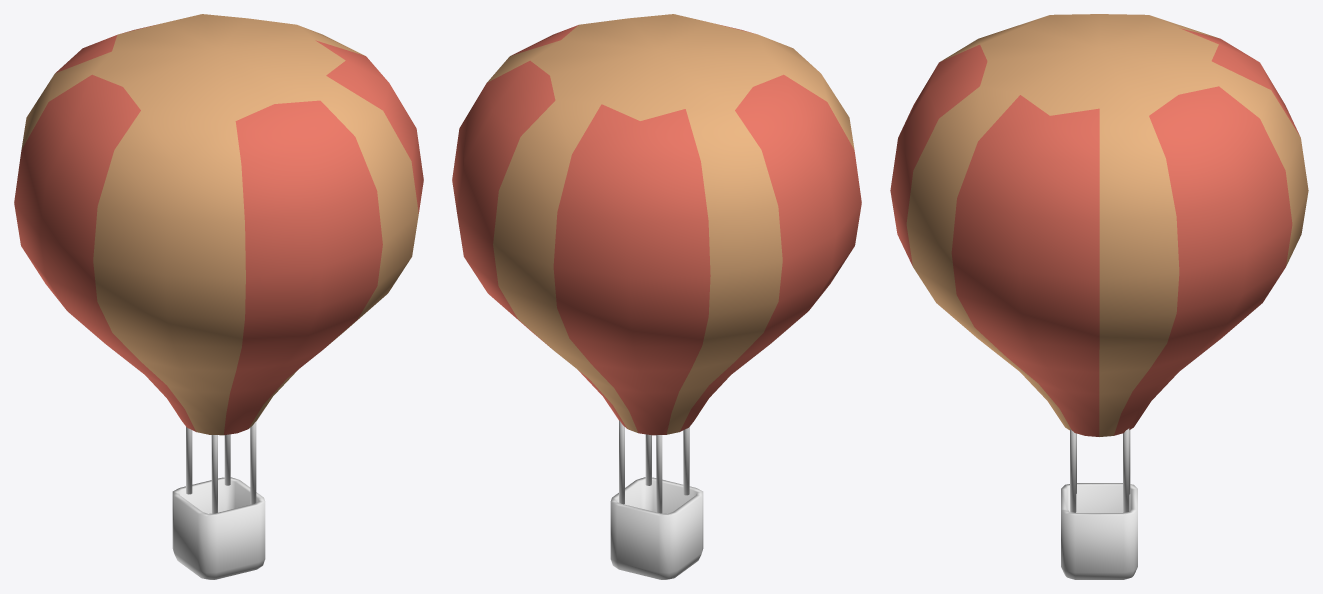
Rendered from luchtballon.fbx.
3 views of the same model, side by side, from view 1: azimuth 30°, elevation 25°; view 2: azimuth 150°, elevation 25°; view 3: azimuth 270°, elevation 25° (orthographic).
Parts seen in each view (by area): view 1: Cylinder, Cube, Cylinder.001, Cylinder.003; view 2: Cylinder, Cube, Cylinder.002; view 3: Cylinder, Cube, Cylinder.004, Cylinder.001.
Boxes of the visible parts, box(x1,y1,x2,y2) form: Cylinder: box(14, 14, 423, 435); Cube: box(172, 477, 265, 579); Cylinder.001: box(250, 421, 256, 504); Cylinder.003: box(211, 435, 217, 513); Cylinder: box(452, 14, 861, 435); Cube: box(610, 477, 703, 579); Cylinder.002: box(656, 435, 662, 513); Cylinder: box(890, 14, 1308, 436); Cube: box(1061, 483, 1137, 579); Cylinder.004: box(1123, 428, 1129, 512); Cylinder.001: box(1070, 429, 1076, 512).
Size of the model in its own units: 642 by 882 by 642.
